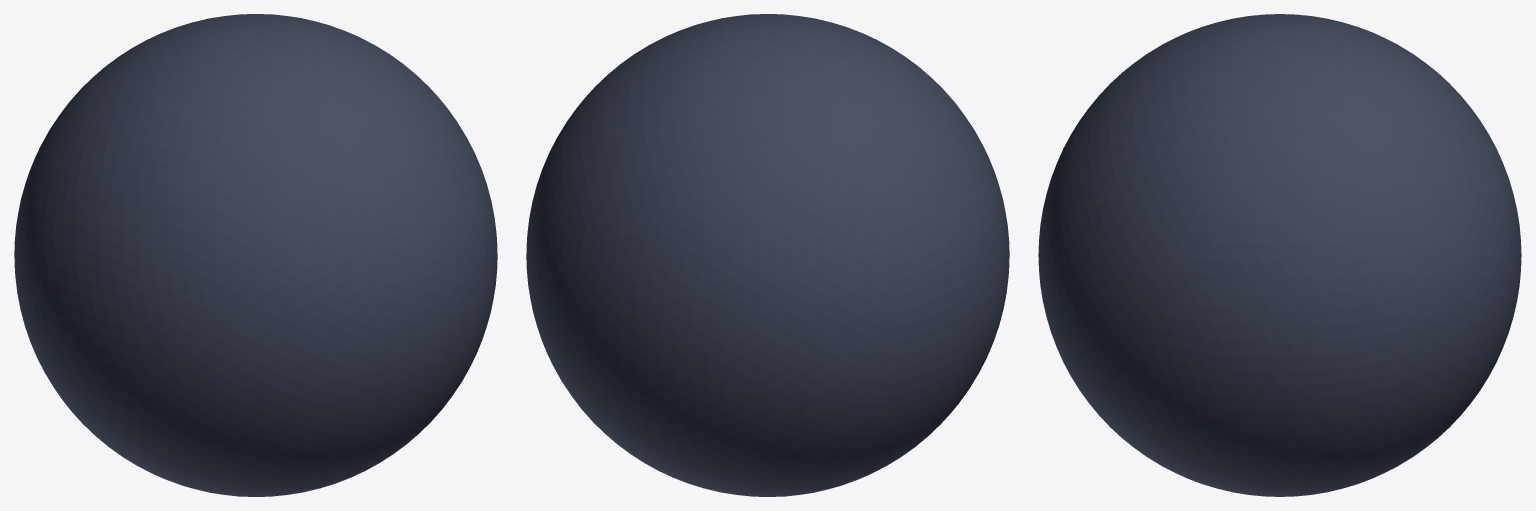
File: brain_HILabs.glb
3 renders of one model, left to right at view 1: azimuth 30°, elevation 25°; view 2: azimuth 150°, elevation 25°; view 3: azimuth 270°, elevation 25°, orthographic.
Parts seen in each view (by area): view 1: Brain_Shell; view 2: Brain_Shell; view 3: Brain_Shell.
Boxes of the visible parts, box(x1,y1,x2,y2) form: Brain_Shell: box(14, 14, 497, 496); Brain_Shell: box(526, 14, 1009, 496); Brain_Shell: box(1038, 14, 1521, 496).
Bounding box in the file's own units: 1.56 × 1.56 × 1.56.
